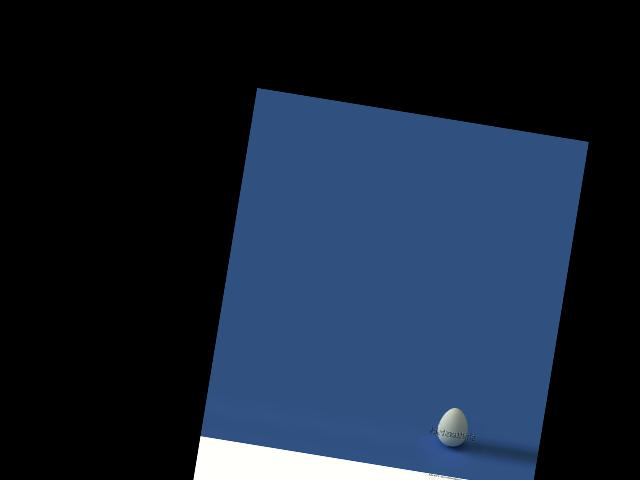egg: (434, 405, 470, 449)
